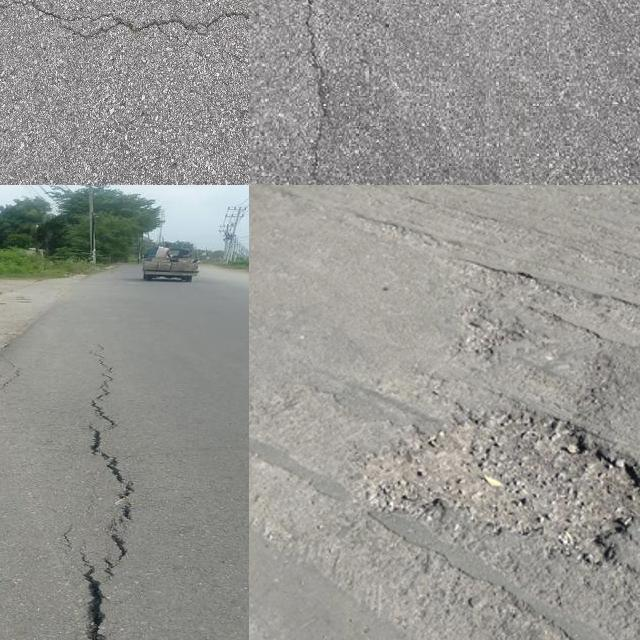Lubang: (364, 422, 640, 562)
Melintang: (0, 0, 249, 49)
Memanjang: (68, 343, 149, 640), (292, 0, 342, 185)
